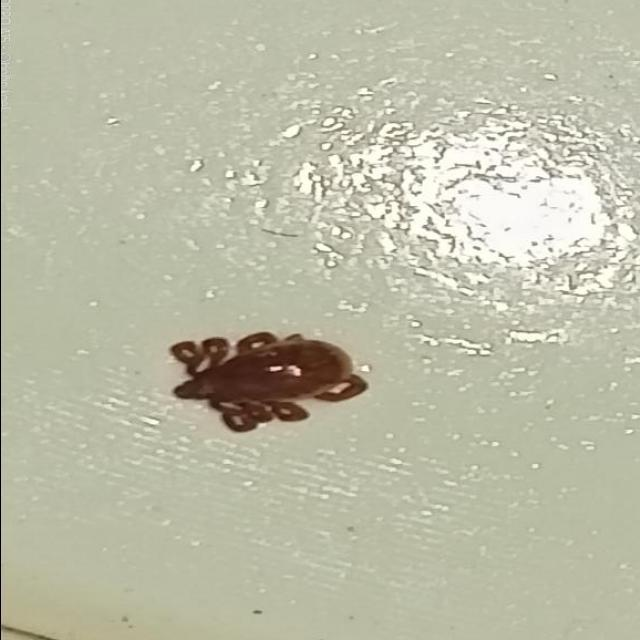Rhipicephalus Sanguineus-M: (169, 332, 365, 432)
